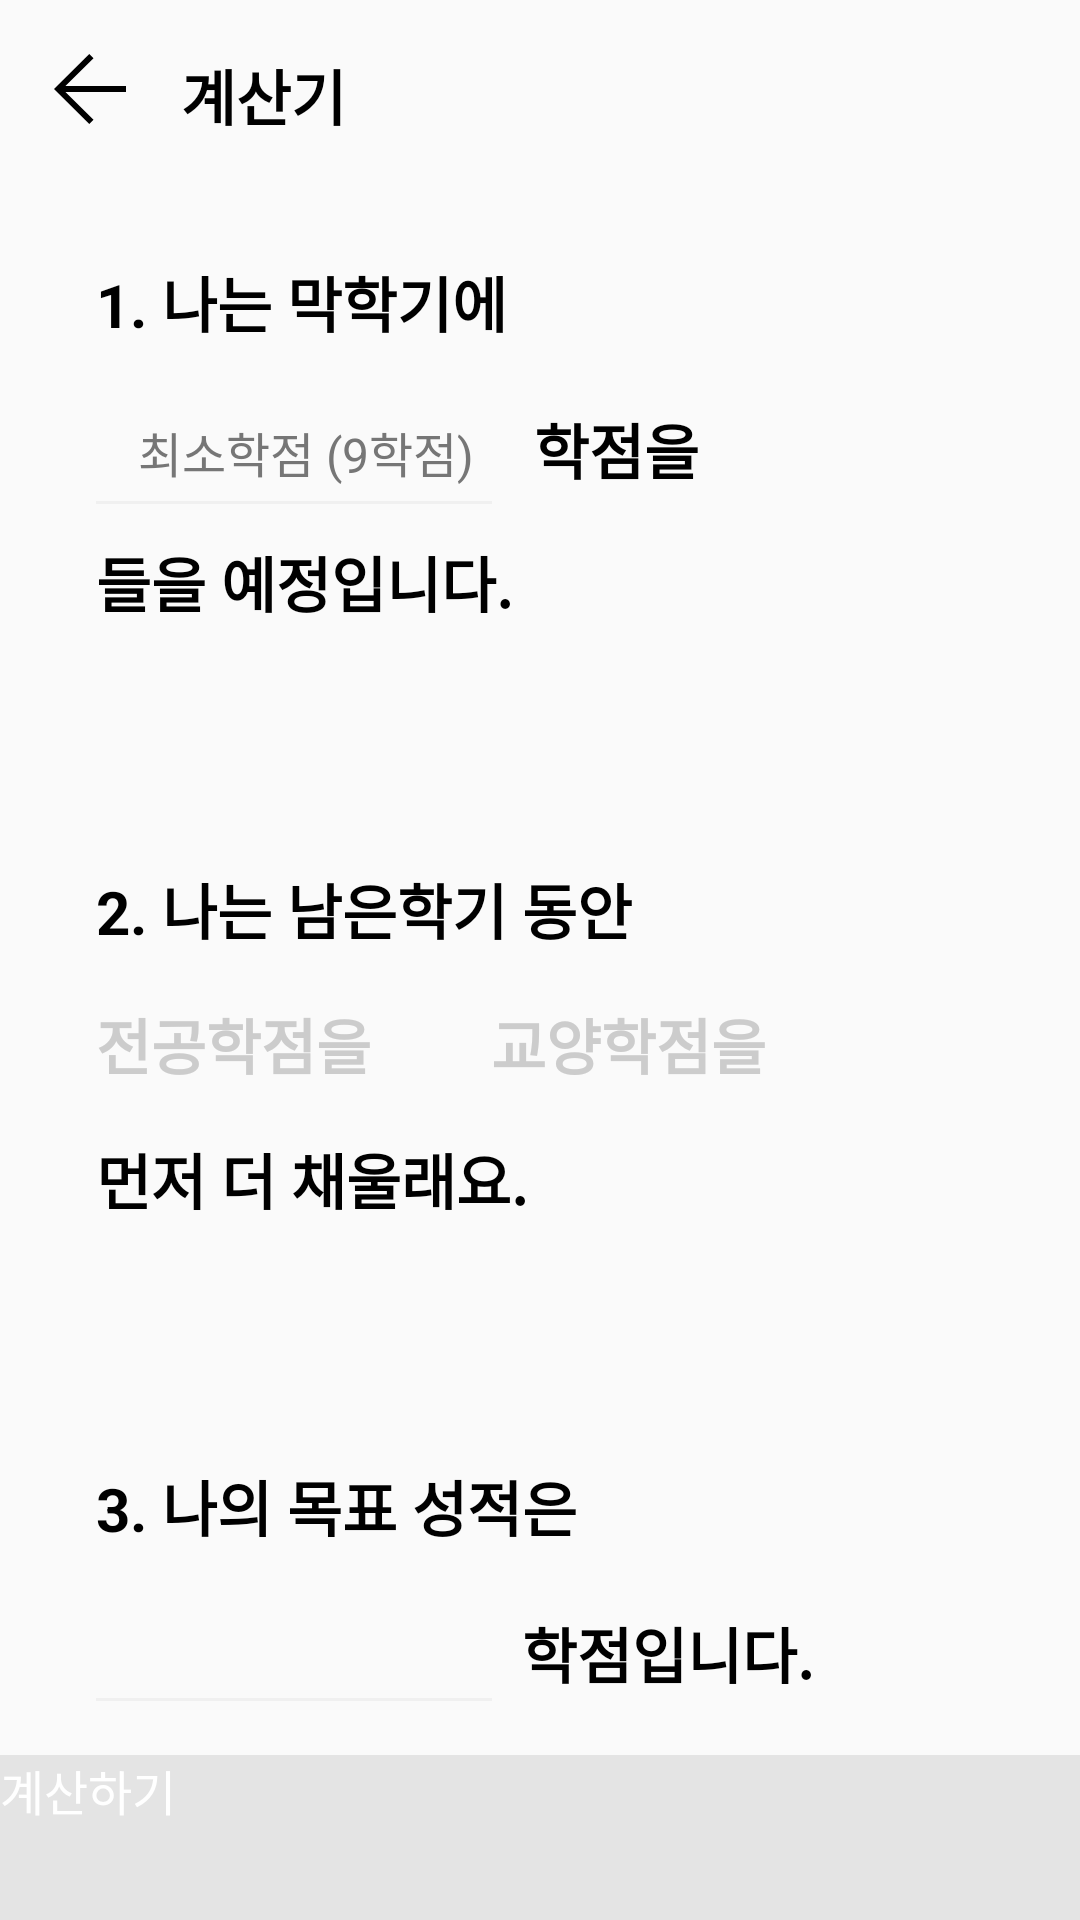

Icon bounding boxes for this 1080w x 1920h phone screenshot, format (left=x1, top=y1, right=x2, bottom=y2):
back: (left=54, top=54, right=126, bottom=124)
